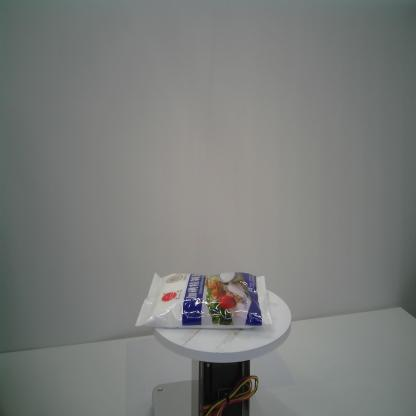Seasoner: (134, 270, 274, 332)
